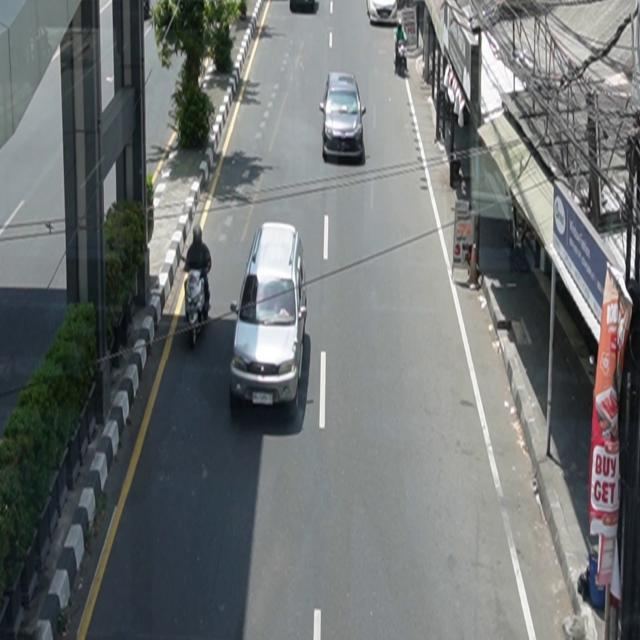car: (230, 222, 308, 411), (320, 72, 367, 165), (367, 1, 399, 26)
